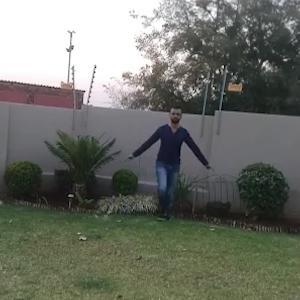land: (119, 103, 211, 225)
